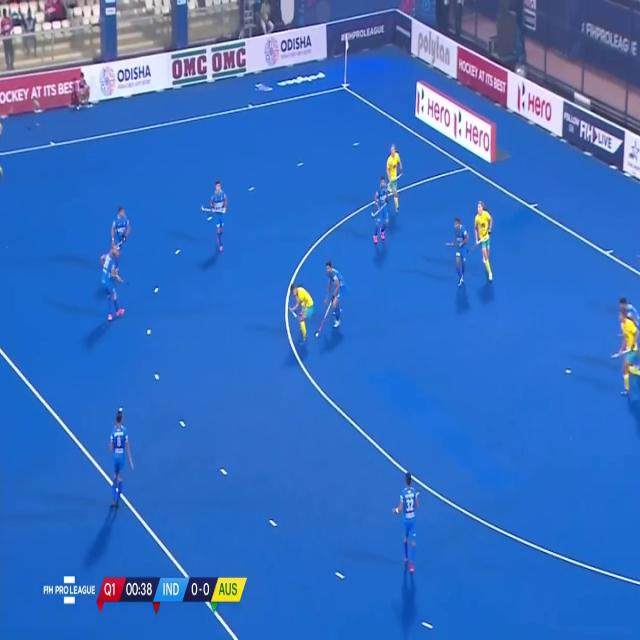ball: (314, 328, 321, 341)
